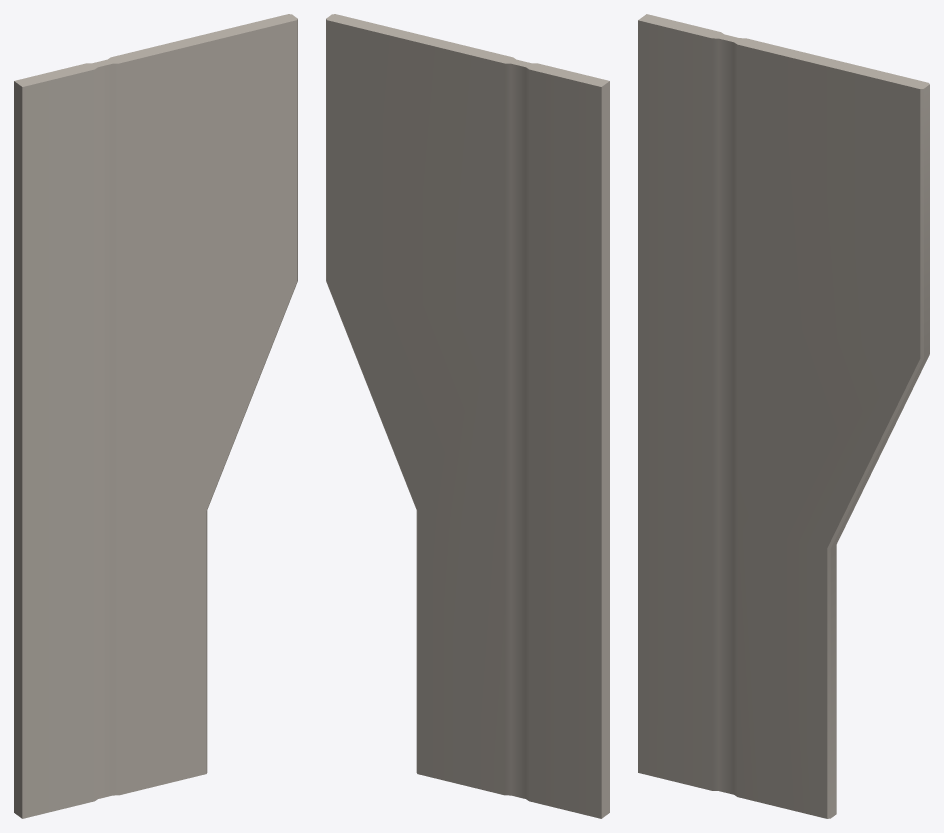
The model's file is door left.fbx.
3 renders of one model, left to right at view 1: azimuth 30°, elevation 25°; view 2: azimuth 150°, elevation 25°; view 3: azimuth 330°, elevation 25°, orthographic. The views are drawn at different scales.
Visible parts, largest first — view 1: door_left; view 2: door_left; view 3: door_left.
Boxes of the visible parts, x1,y1,x2,y2 form: door_left: (14,14,297,818); door_left: (326,14,609,818); door_left: (638,14,929,818).
Bounding box in the file's own units: 94.95 × 240 × 5.
1 material, 1 textured.
